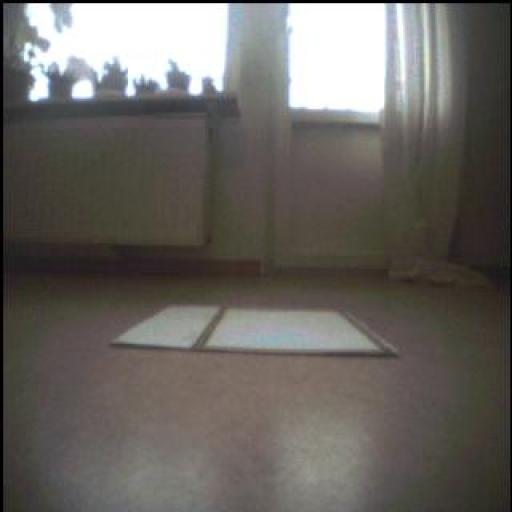Pad: (117, 297, 408, 355)
